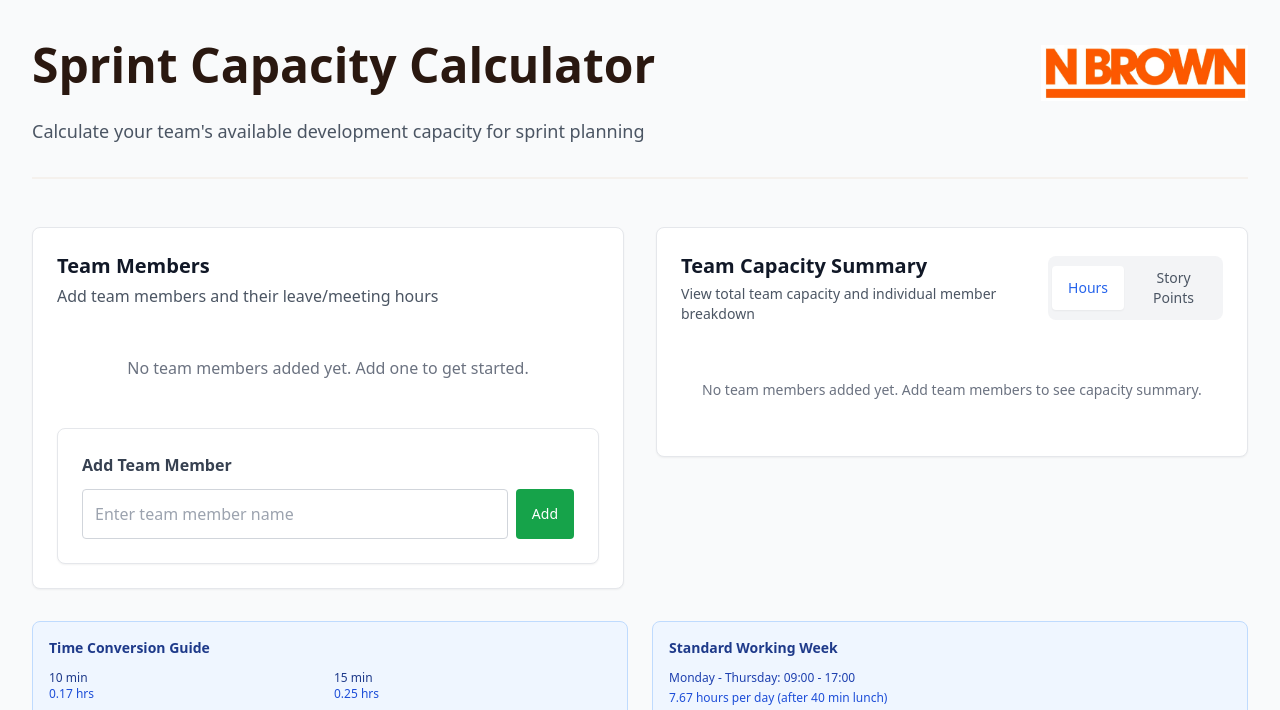
Sprint Capacity Calculator - Integration Tests › Adding and removing team members updates summary › should update totals when team member is removed
// Add two team members
Type "Alice" into the field with placeholder "Enter team member name" at (295, 514), box [82,489,508,539]
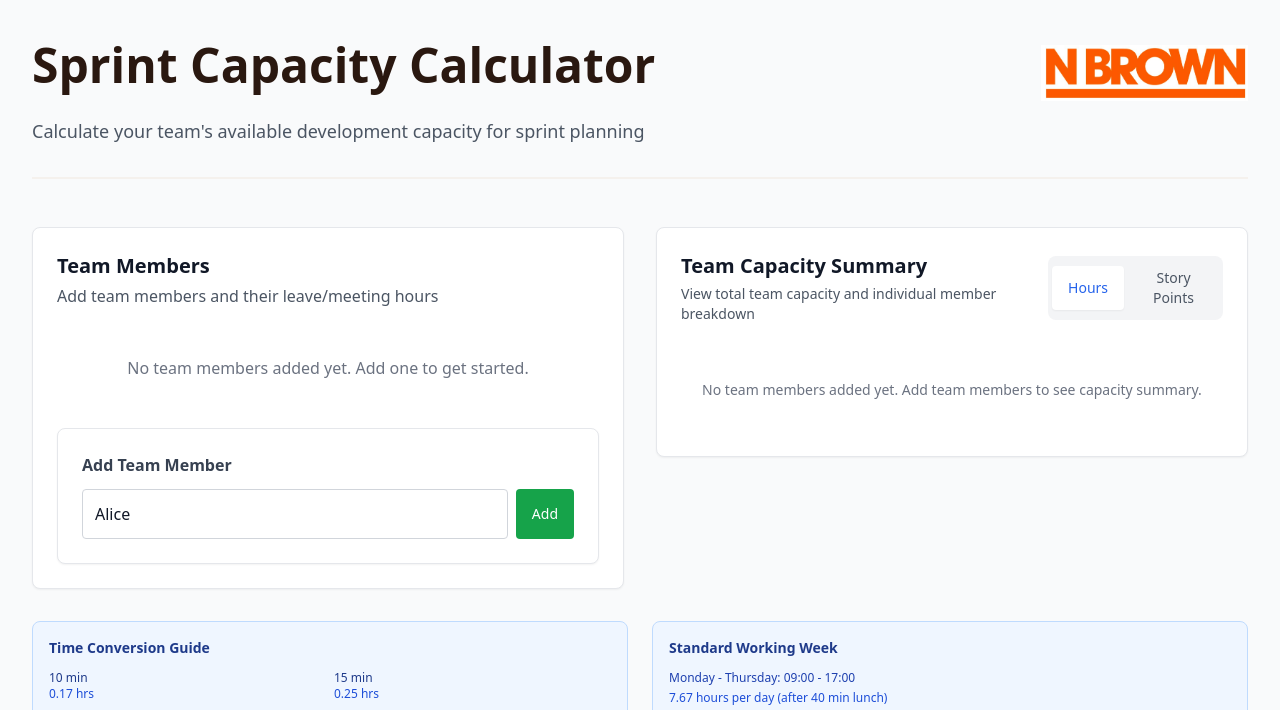
Click the button "Add" at (545, 514), box [516,489,574,539]
(page scrolled)
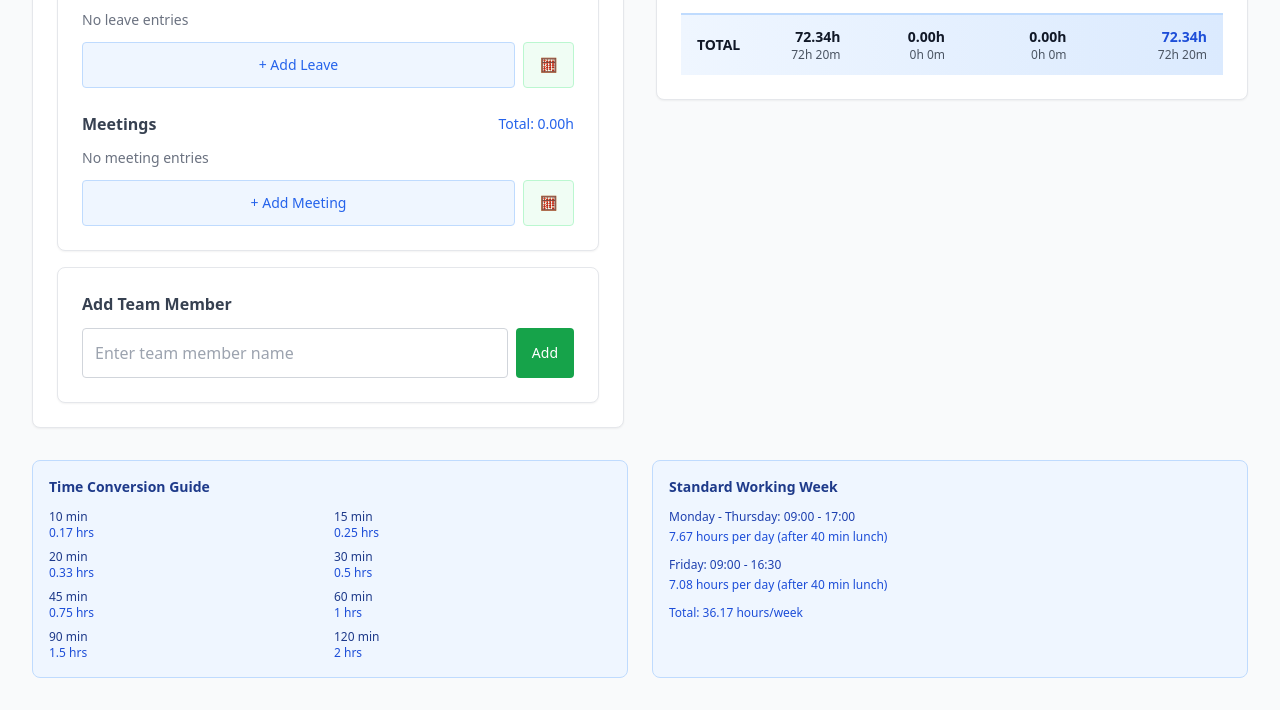
Type "Bob" into the field with placeholder "Enter team member name" at (295, 353), box [82,328,508,378]
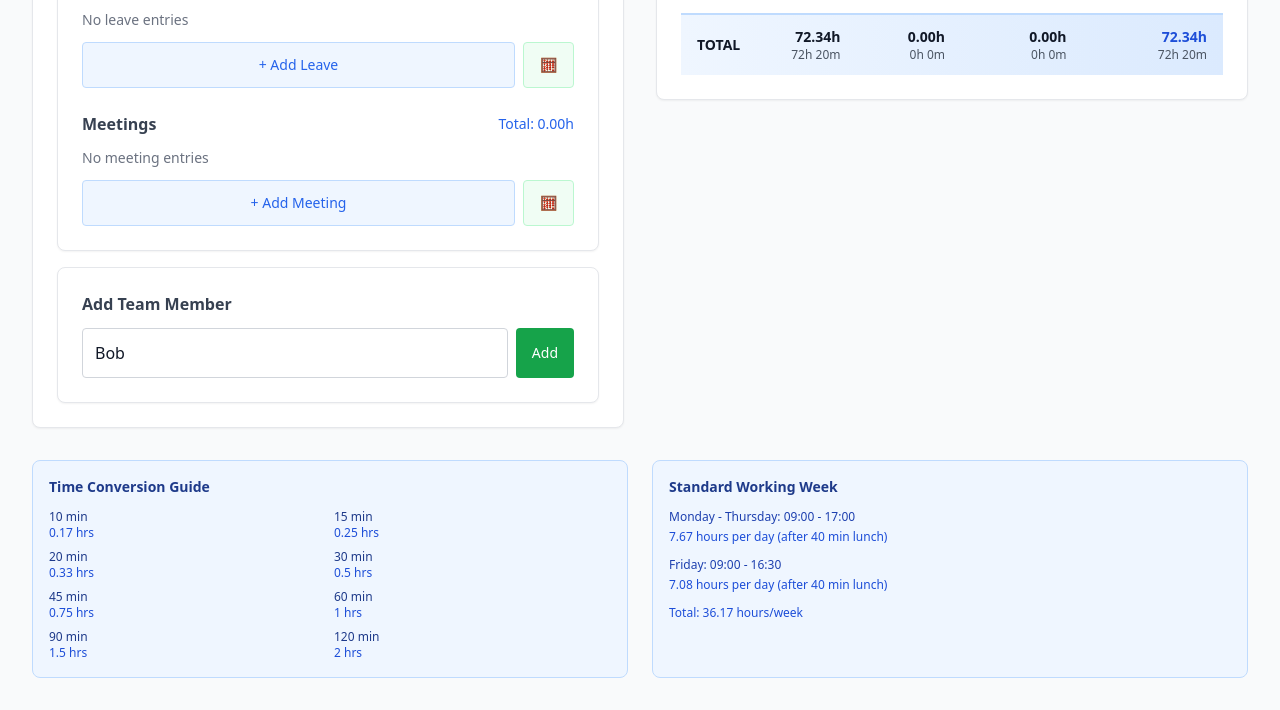
Click the button "Add" at (545, 353), box [516,328,574,378]
(page scrolled)
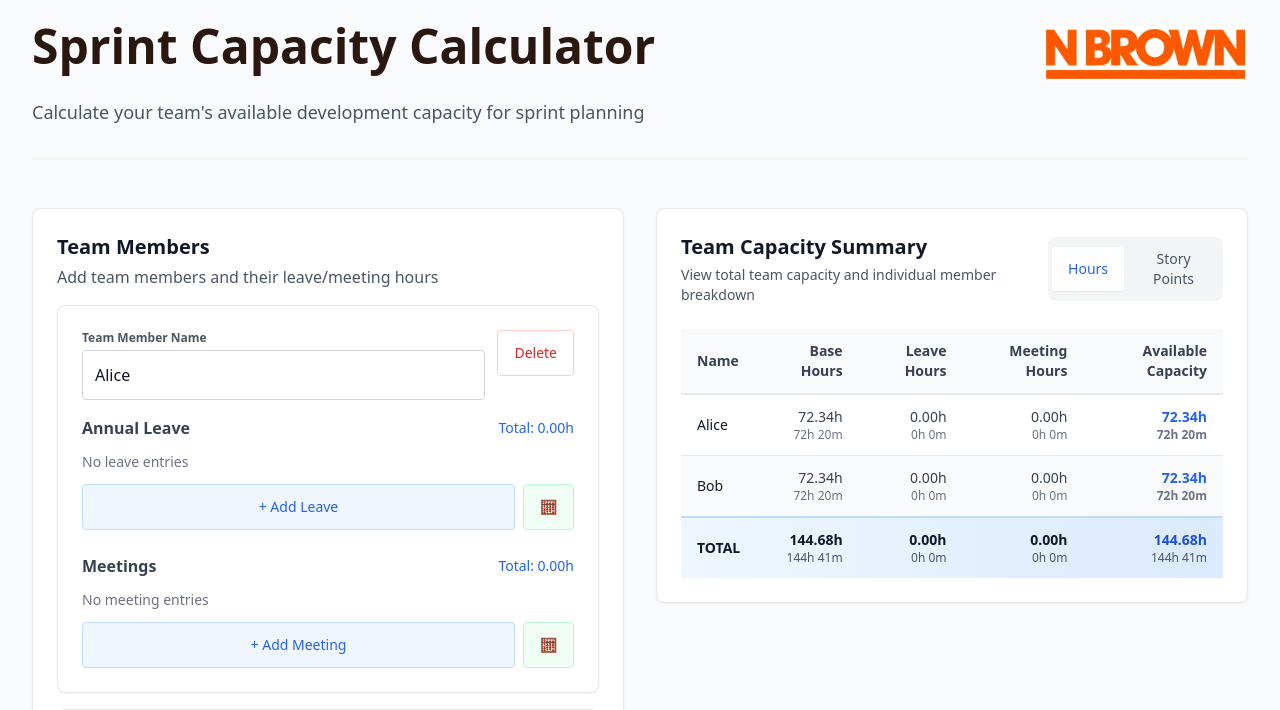
Check: the field showing "Alice" is shown, box [82,350,485,400]
// Remove first team member
Click the button "Delete" at (536, 353), box [497,330,574,376]
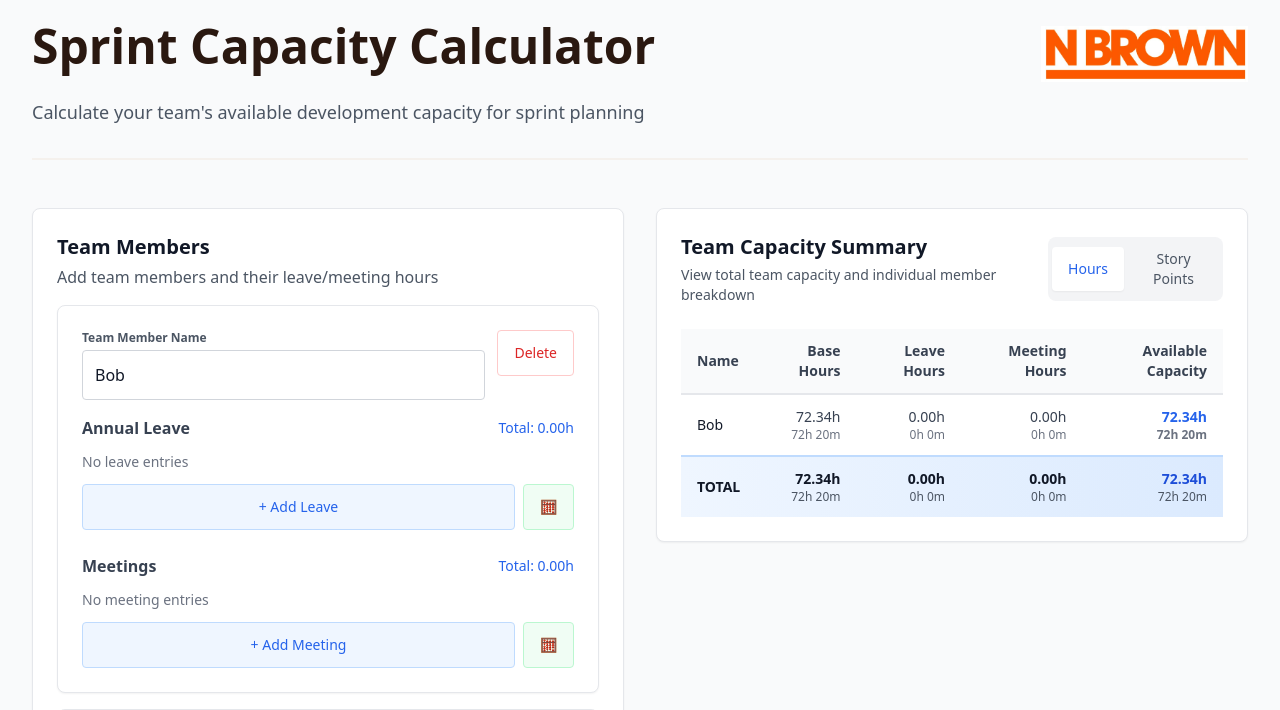
Check: the field showing "Bob" is shown, box [82,350,485,400]
Check: no cells showing "Alice" are shown
